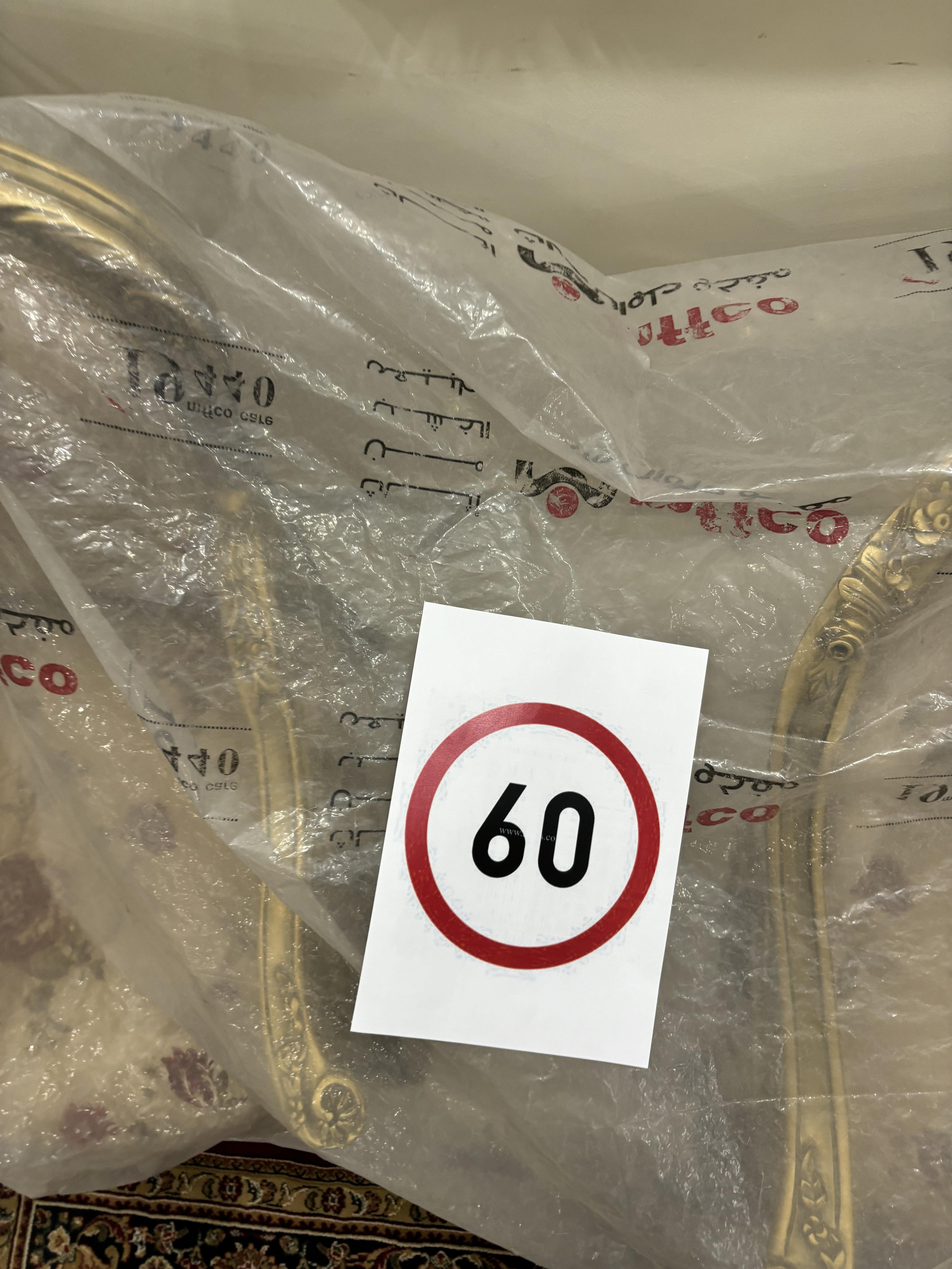60-Speed: (405, 696, 673, 975)
